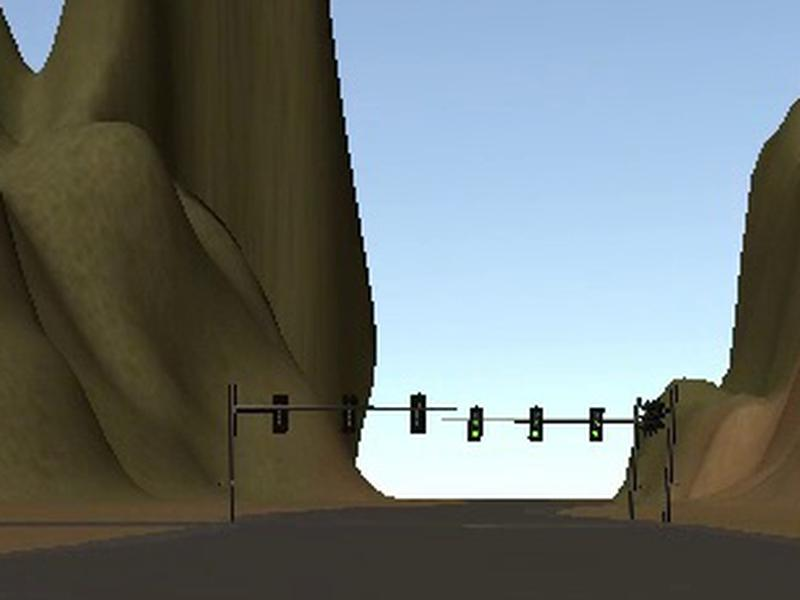Green: (527, 407, 544, 442), (467, 408, 484, 442), (589, 407, 605, 442)
